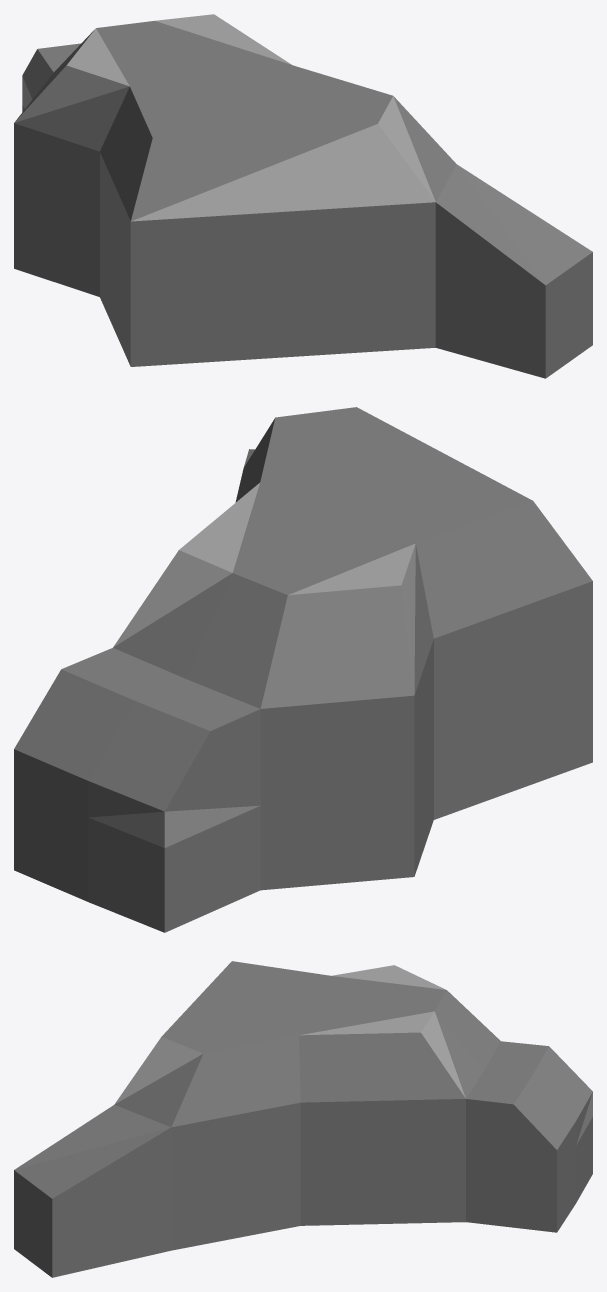
Rendered from rock_19.fbx.
3 views of the same model, one above another, from view 1: azimuth 30°, elevation 25°; view 2: azimuth 150°, elevation 25°; view 3: azimuth 270°, elevation 25° (orthographic). The views are drawn at different scales.
Parts seen in each view (by area): view 1: rock_19; view 2: rock_19; view 3: rock_19.
Part boxes in pixels (left/top/right/bottom): rock_19: left=14, top=14, right=592, bottom=378; rock_19: left=14, top=407, right=592, bottom=932; rock_19: left=14, top=961, right=592, bottom=1277.
Size of the model in its own units: 172 by 93.87 by 276.
